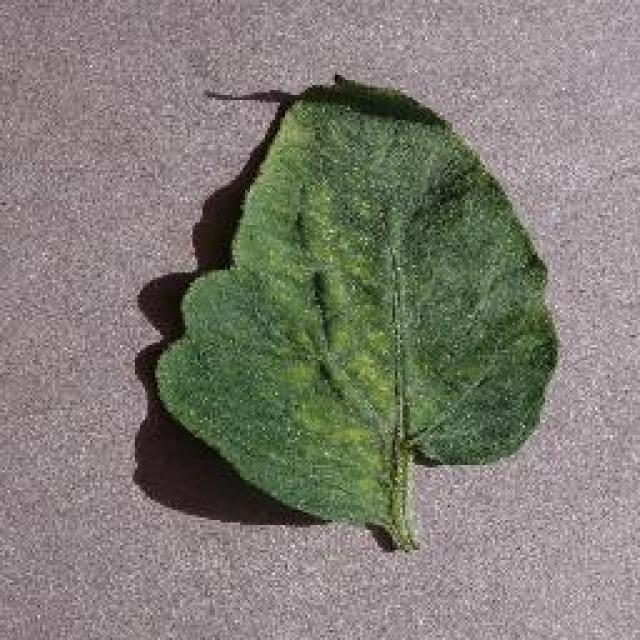Tomato___Spider_mites Two-spotted_spider_mite: (155, 78, 555, 548)
